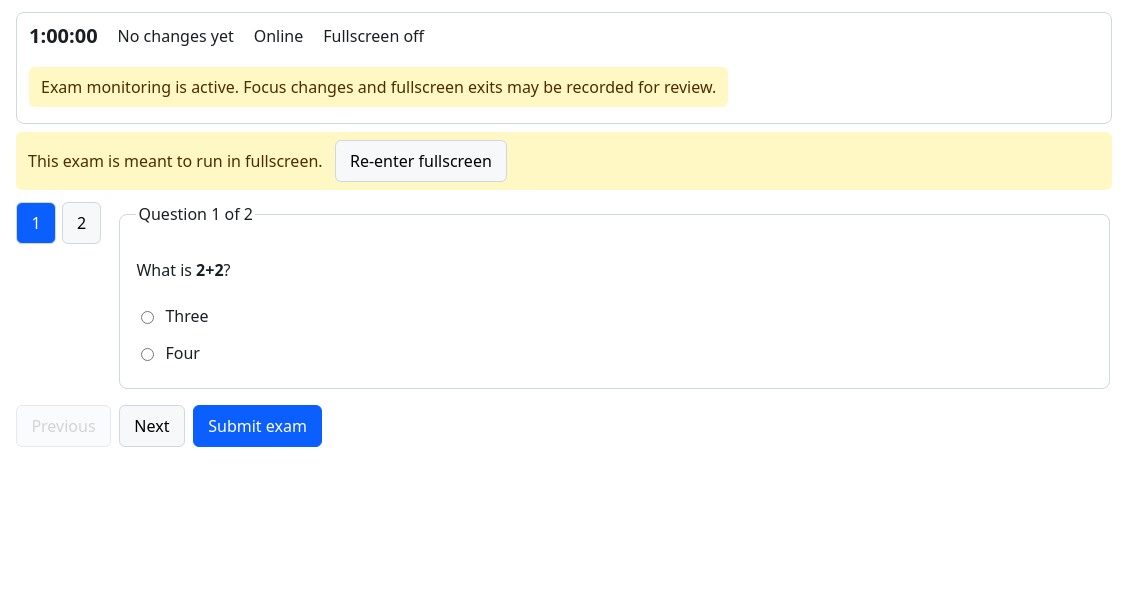
Test: B-17 web exam shell › question navigation preserves answers
The width and height of the screenshot is (1129, 606).
Click the radio button labelled "Four": (148, 355) [142, 344, 154, 365]
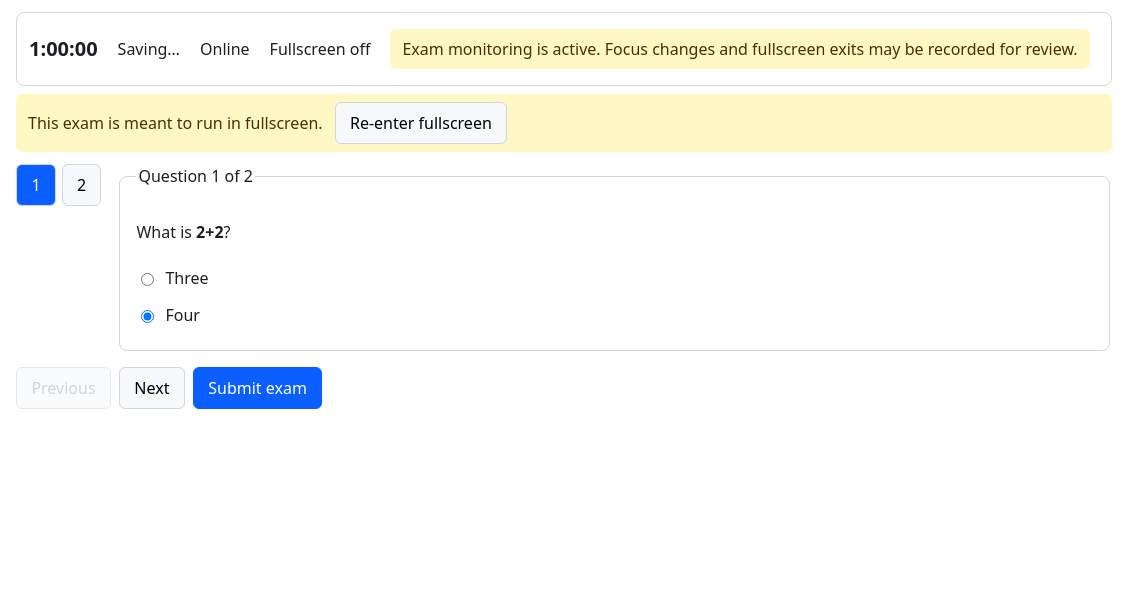
Click the button "Next": (152, 388) [119, 367, 185, 409]
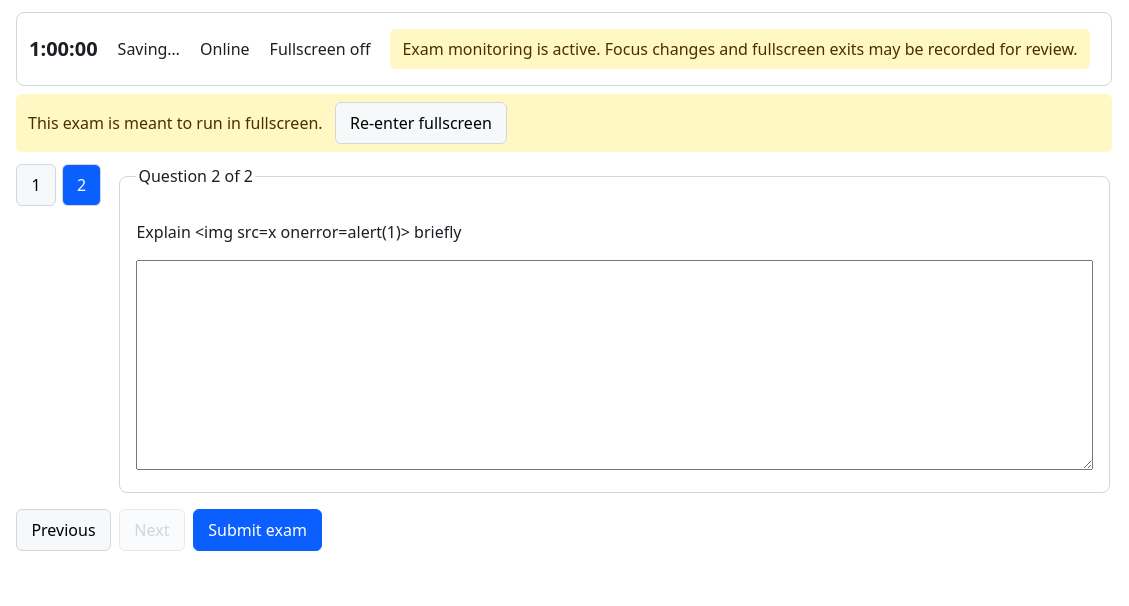
Now the text "Question 2 of 2" is shown, box [136, 164, 255, 188]
In the text box named "Answer for question 2": (615, 365) [136, 260, 1093, 470], type "my text"
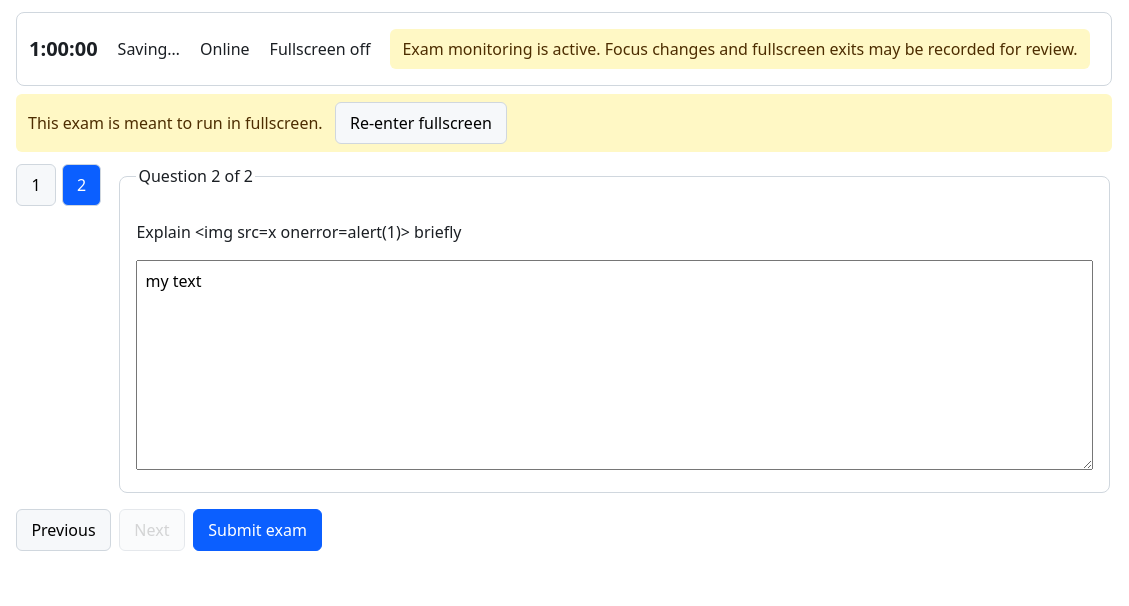
Click the button "Previous": (64, 530) [16, 509, 111, 551]
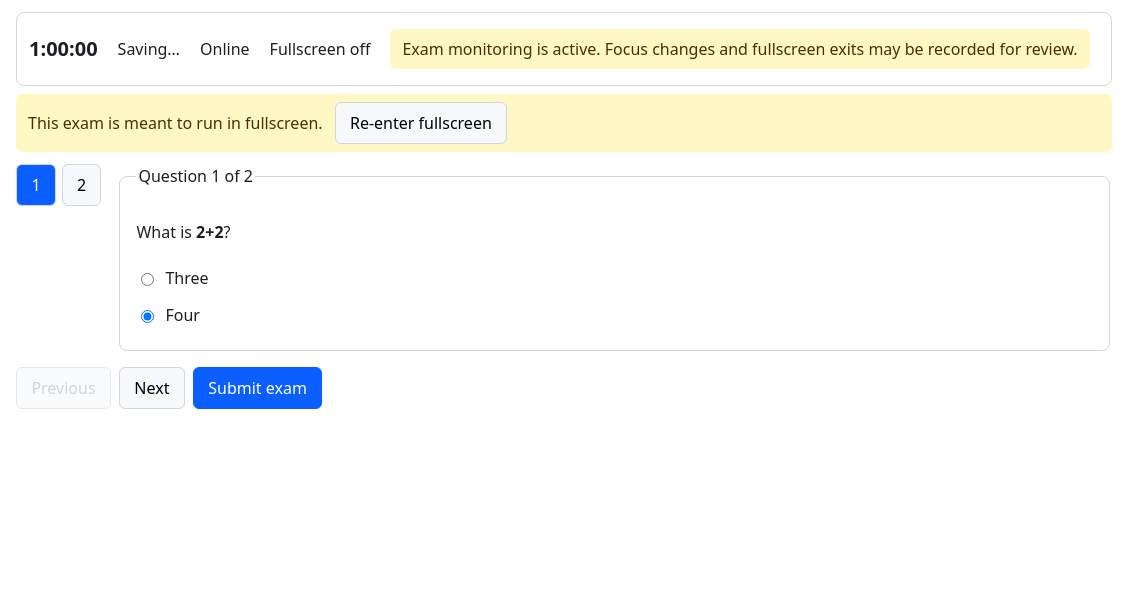
Now the radio button labelled "Four" is checked, box [142, 306, 154, 327]
Click the button named "Question 2, answered": (81, 185) [62, 164, 101, 206]
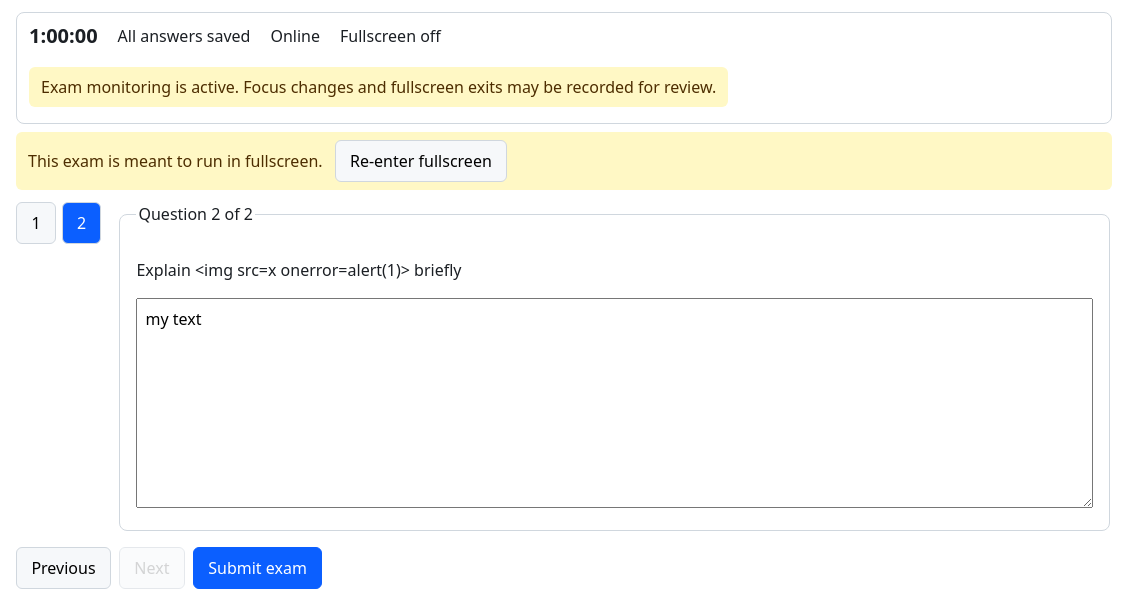
Now the text box named "Answer for question 2" holds "my text", box [136, 298, 1093, 508]
